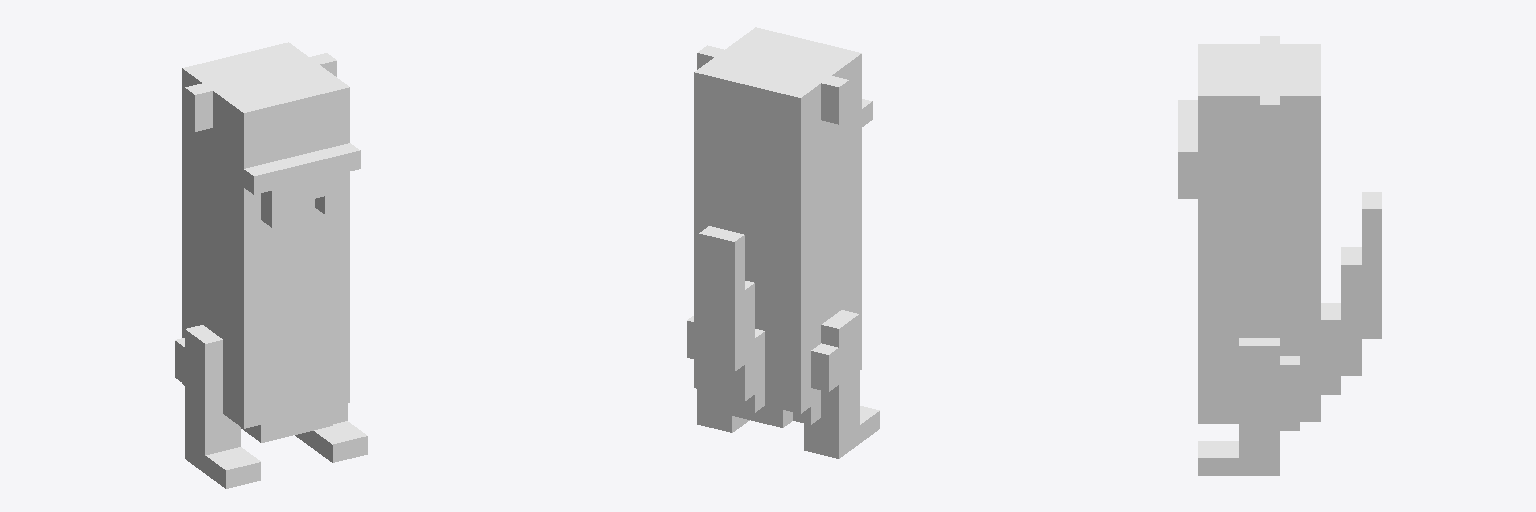
The model's file is otter-2.obj.
The picture shows the model from 3 angles: view 1: azimuth 30°, elevation 25°; view 2: azimuth 150°, elevation 25°; view 3: azimuth 270°, elevation 25°; orthographic projection.
Parts seen in each view (by area): view 1: object 1; view 2: object 1; view 3: object 1.
Part boxes in pixels (left/top/right/bottom): object 1: left=175, top=42, right=367, bottom=488; object 1: left=687, top=27, right=879, bottom=458; object 1: left=1178, top=36, right=1381, bottom=475.
Bounding box in the file's own units: 0.8 × 2 × 1.